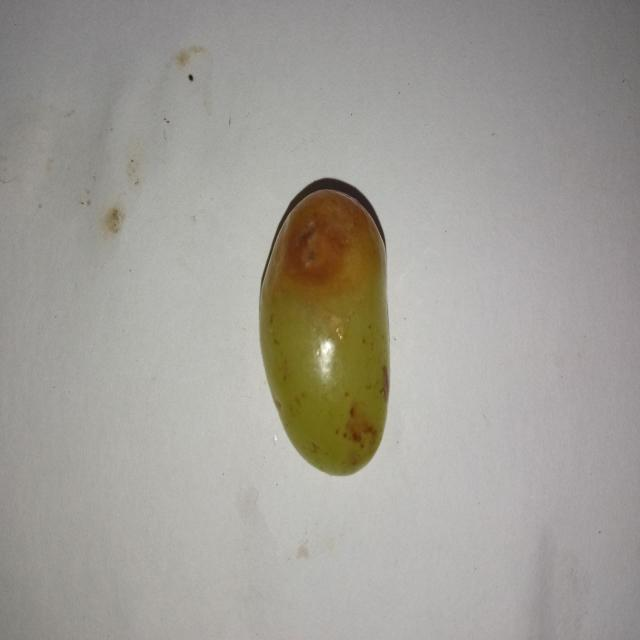rotten_grape: (262, 192, 388, 475)
